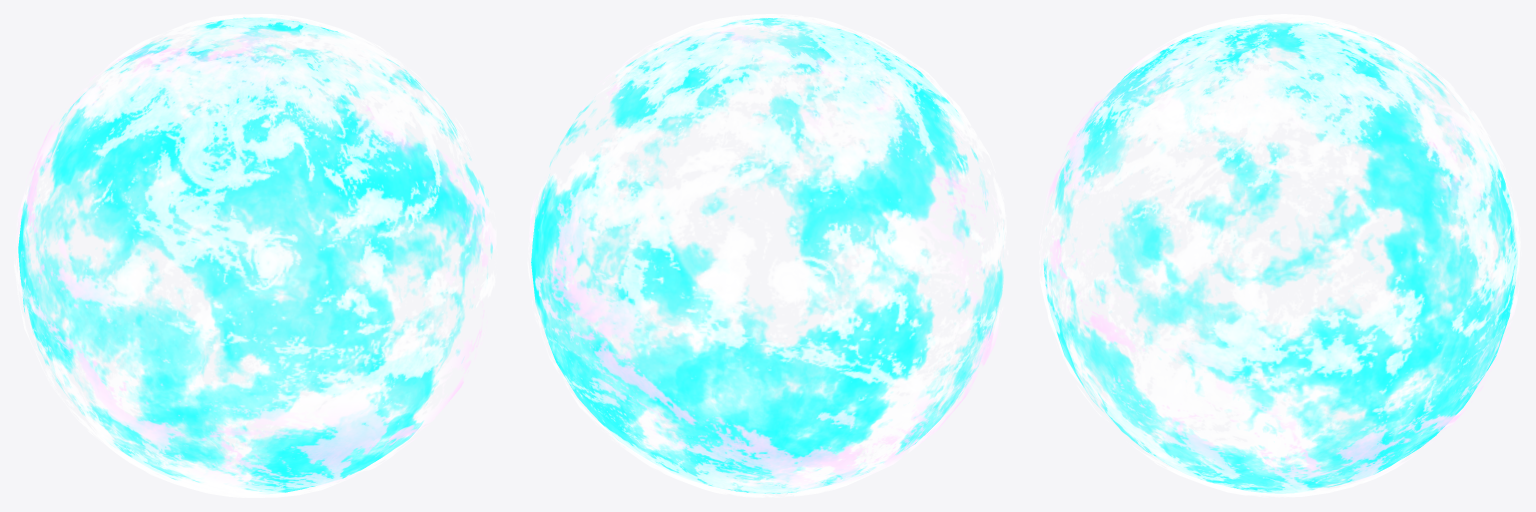
File: gasplanet01.glb
3 views of the same model, side by side, from view 1: azimuth 30°, elevation 25°; view 2: azimuth 150°, elevation 25°; view 3: azimuth 270°, elevation 25° (orthographic).
Parts seen in each view (by area): view 1: clouds, planet; view 2: clouds, planet; view 3: clouds, planet.
Part boxes in pixels (x1=…): clouds: x1=14, y1=14, x2=497, y2=497; planet: x1=18, y1=17, x2=492, y2=492; clouds: x1=527, y1=14, x2=1008, y2=497; planet: x1=531, y1=18, x2=1003, y2=493; clouds: x1=1039, y1=14, x2=1521, y2=497; planet: x1=1043, y1=23, x2=1517, y2=493.
Size of the model in its own units: 2.03 by 2.03 by 2.03.
2 materials, 2 textured.
